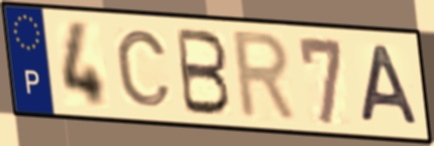4: (57, 18, 112, 112)
7: (295, 32, 348, 128)
A: (358, 42, 422, 129)
B: (174, 25, 233, 118)
C: (113, 27, 175, 110)
R: (231, 28, 301, 126)
